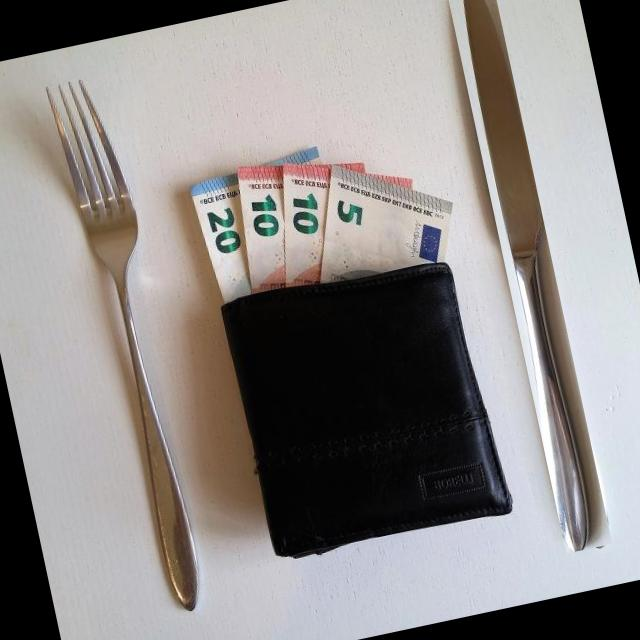Knife: (463, 0, 588, 551)
